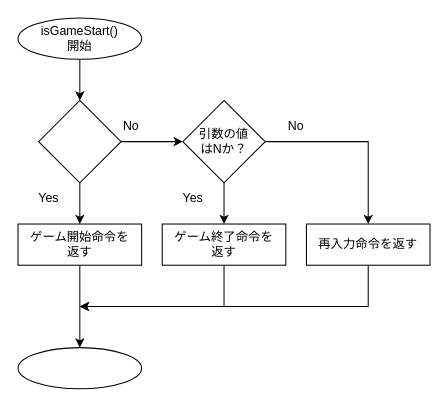
Image size: 448x407. Some labels were removed from this diagram. Each missing label, with the centre of its shape:
"isGameStart() 終了" belongs at [79,368].
"引数の値 はYか？" belongs at [79,141].
